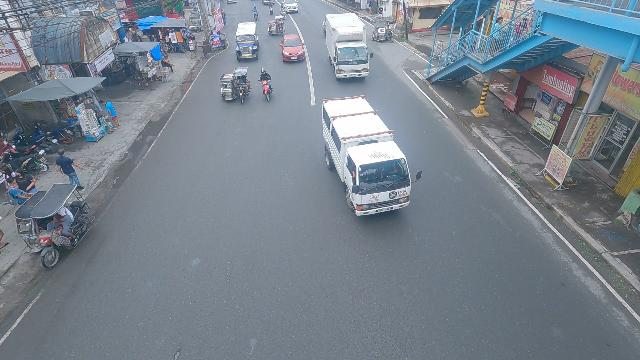car: (280, 35, 306, 65), (282, 0, 299, 13)
jeepney: (234, 21, 260, 62)
motorcycle: (256, 70, 274, 103), (252, 4, 259, 20), (280, 6, 286, 20), (268, 1, 274, 15)
truck: (324, 12, 367, 78)
van: (321, 94, 427, 217)
